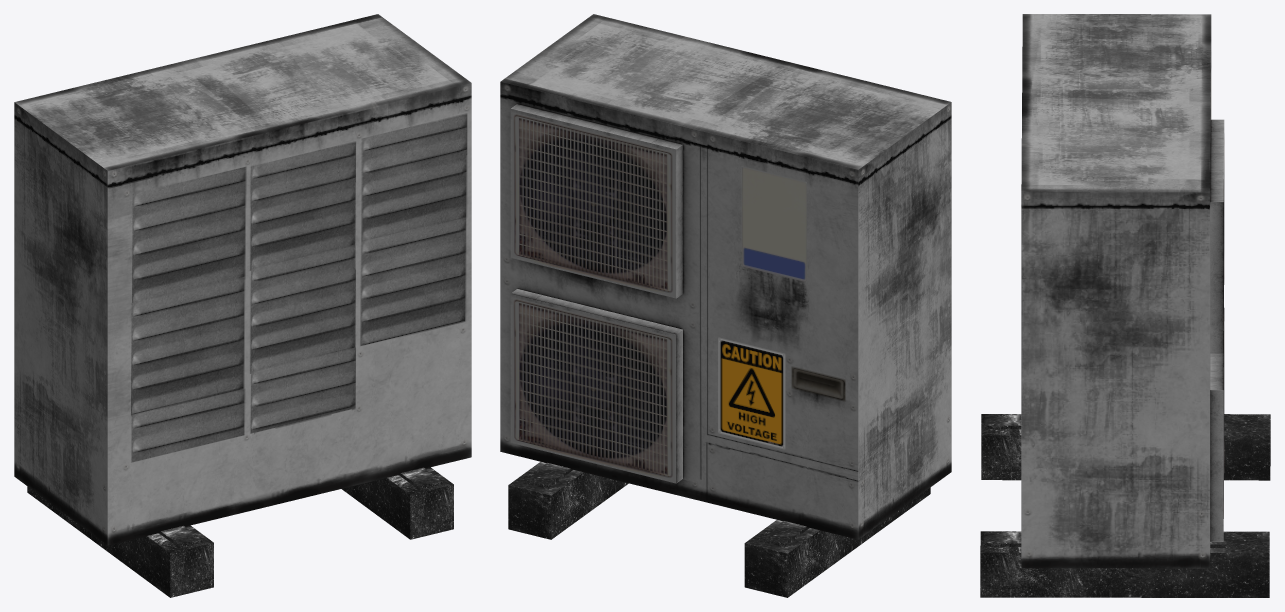
File: fan.fbx
3 renders of one model, left to right at view 1: azimuth 30°, elevation 25°; view 2: azimuth 150°, elevation 25°; view 3: azimuth 270°, elevation 25°, orthographic.
Visible parts, largest first — view 1: fan; view 2: fan; view 3: fan.
Boxes of the visible parts, x1,y1,x2,y2 form: fan: [14, 14, 471, 597]; fan: [500, 14, 951, 597]; fan: [980, 14, 1270, 597].
Size of the model in its own units: 168 by 187 by 116.
